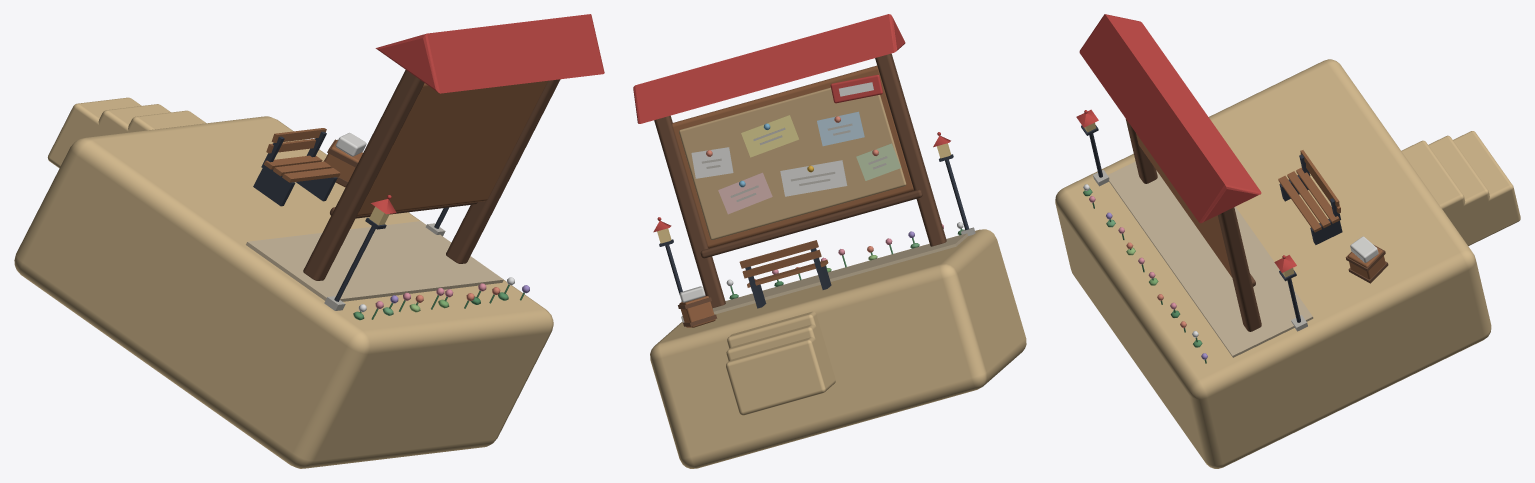
The model's file is station-updates.glb.
The picture shows the model from 3 angles, left to right: view 1: azimuth 30°, elevation 25°; view 2: azimuth 150°, elevation 25°; view 3: azimuth 270°, elevation 25°; orthographic projection. The views are drawn at different scales.
Visible parts, largest first — view 1: updates; view 2: updates; view 3: updates.
Part boxes in pixels (x1,y1,x2,y2): updates: [14, 14, 604, 468]; updates: [633, 14, 1026, 468]; updates: [1055, 14, 1520, 468].
Size of the model in its own units: 3.53 by 3.3 by 3.45.
